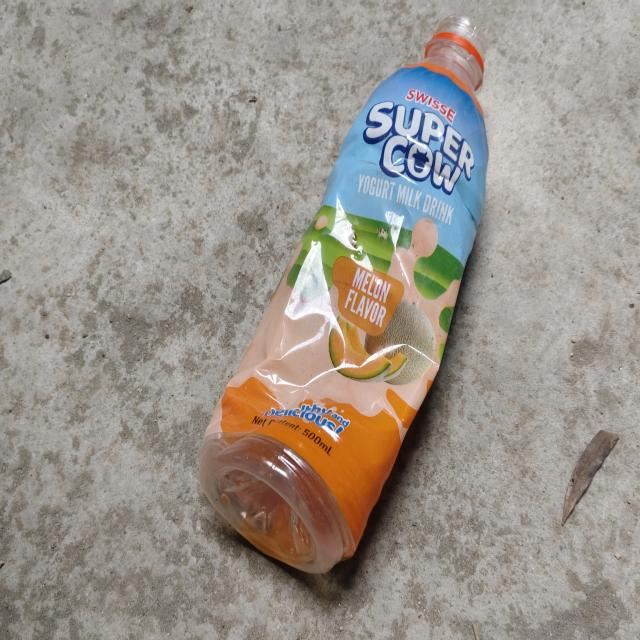Bottle: (199, 16, 488, 574)
